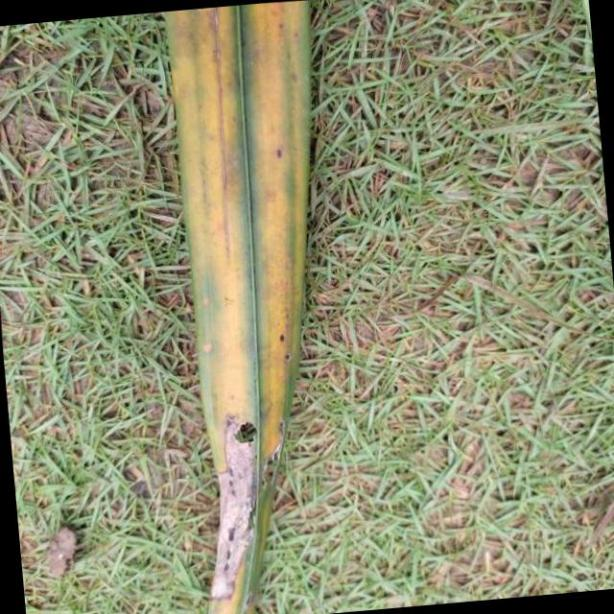Megnesium: (166, 0, 312, 585)
